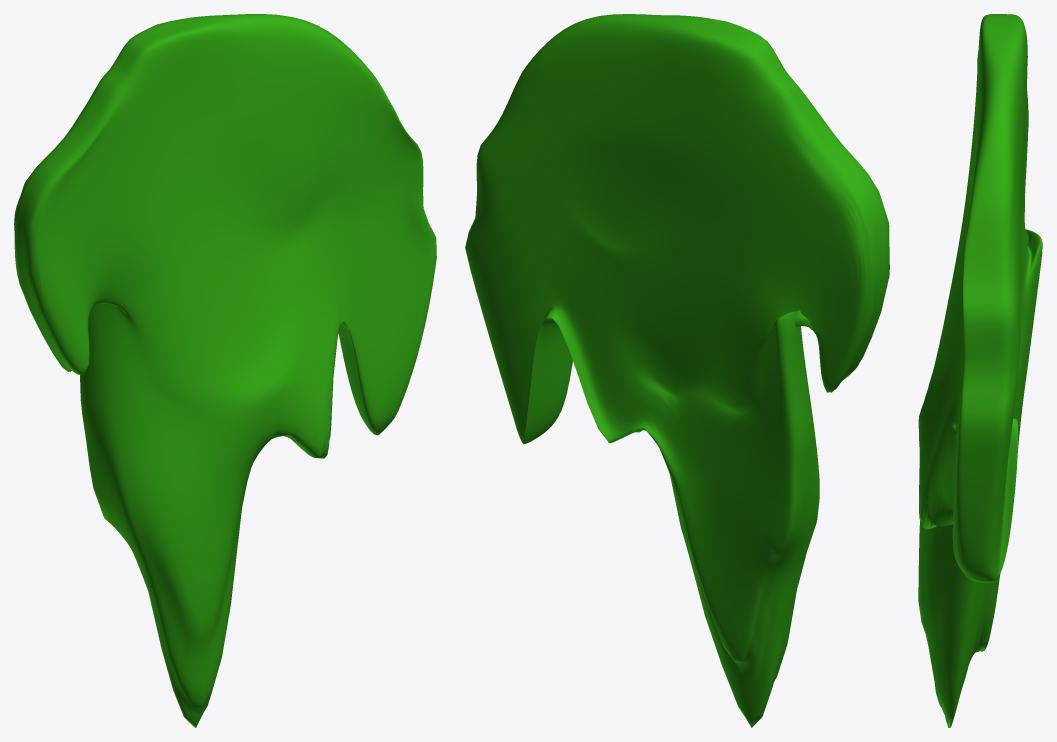
Rendered from Stain_Green.fbx.
3 renders of one model, left to right at view 1: azimuth 30°, elevation 25°; view 2: azimuth 150°, elevation 25°; view 3: azimuth 270°, elevation 25°, orthographic. The views are drawn at different scales.
Visible parts, largest first — view 1: Box009; view 2: Box009; view 3: Box009.
Boxes of the visible parts, x1,y1,x2,y2 form: Box009: [14, 14, 436, 727]; Box009: [465, 14, 889, 727]; Box009: [918, 14, 1042, 727].
Bounding box in the file's own units: 12.94 × 21.22 × 3.39.
